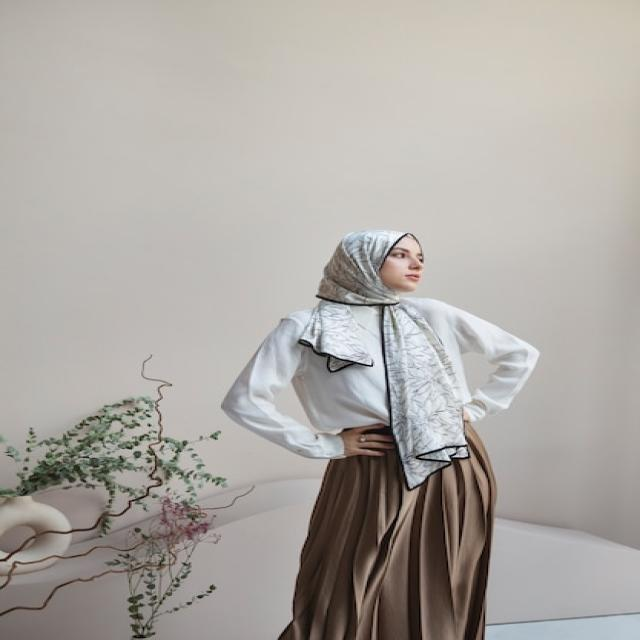Person: (224, 227, 541, 640)
